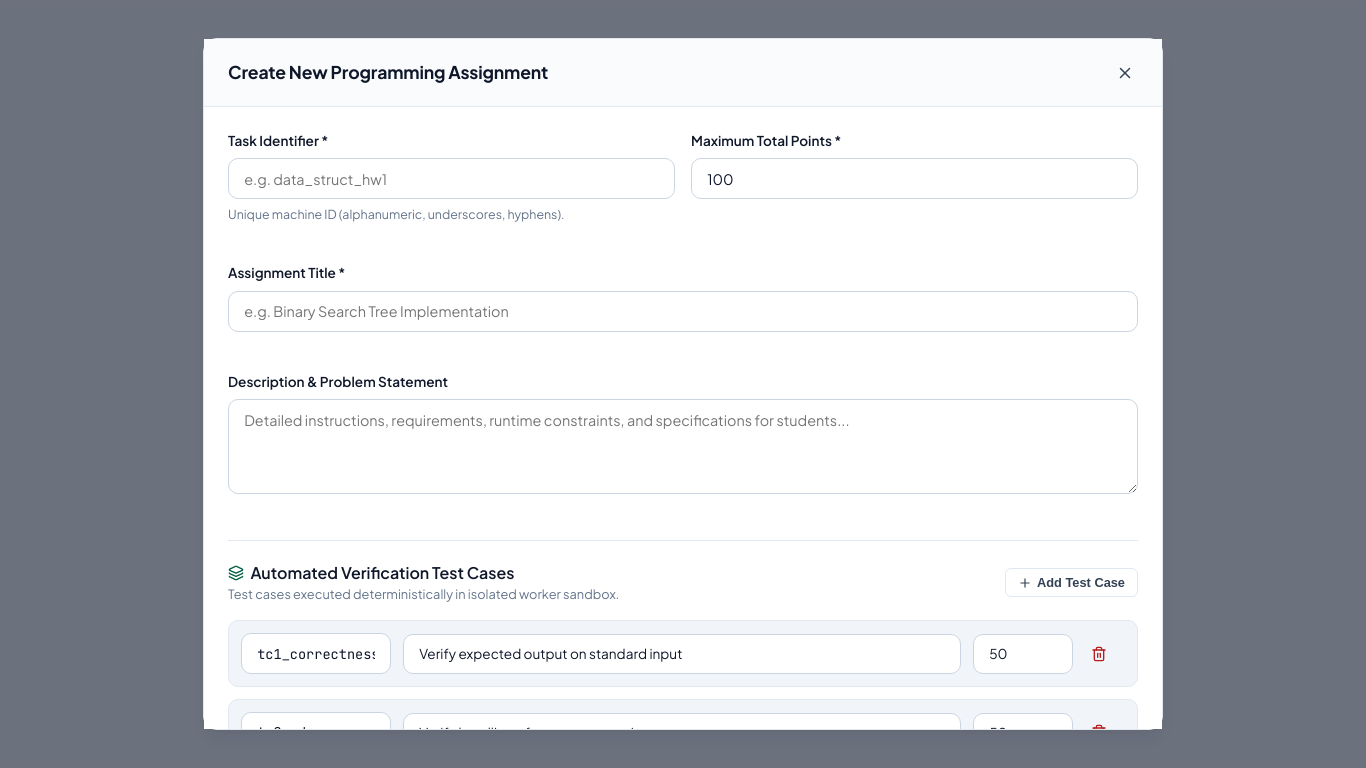
Test case: Instructor Dashboard Components › renders AssignmentCreateEditModal with dynamic test case addition
Expected: the heading "Create New Programming Assignment" is shown, [228,59,548,86]
Expected: the 1st field showing "tc1_correctness" is shown, [241,633,391,674]
# Add another test case
Click the button "Add Test Case". click: (1072, 583)
box: [1005,568,1138,597]
(page scrolled)
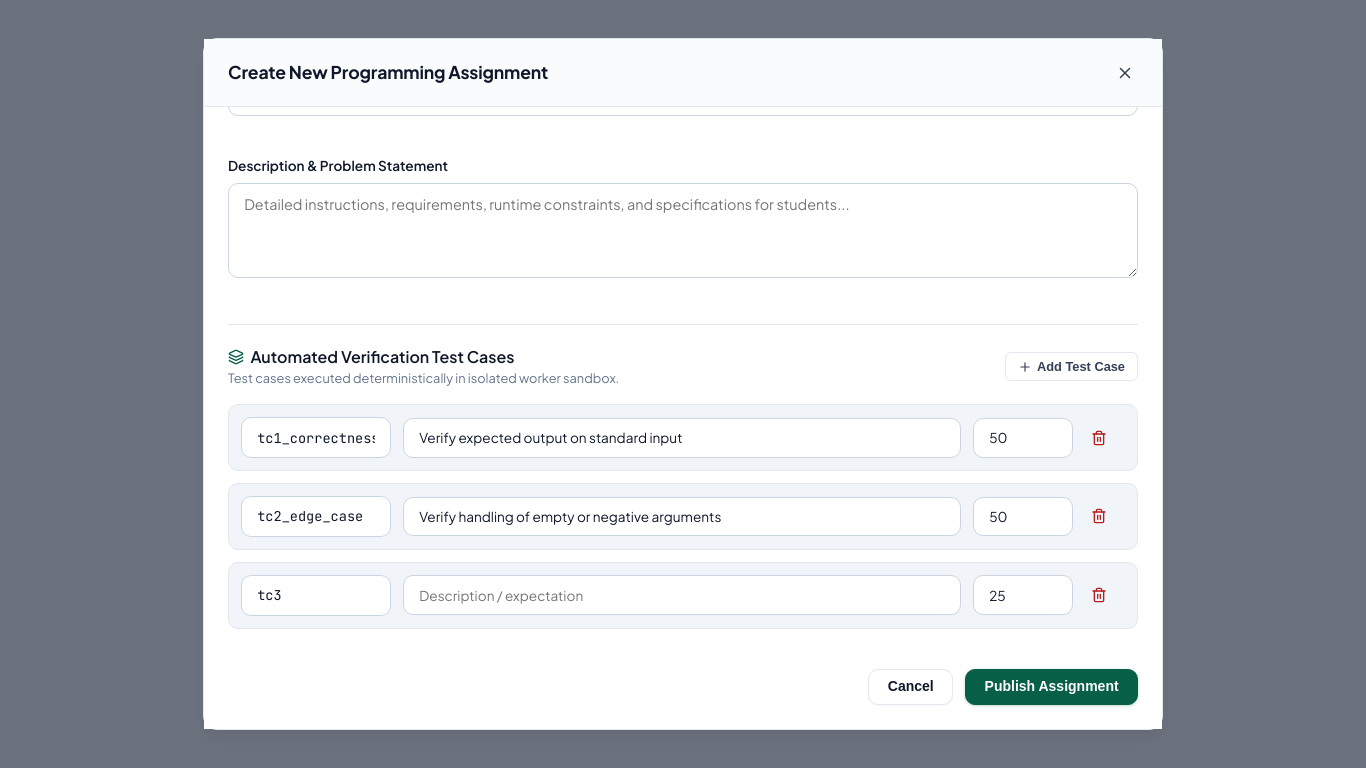
Result: the 5th field showing "tc3" is shown at [241,575,391,616]
